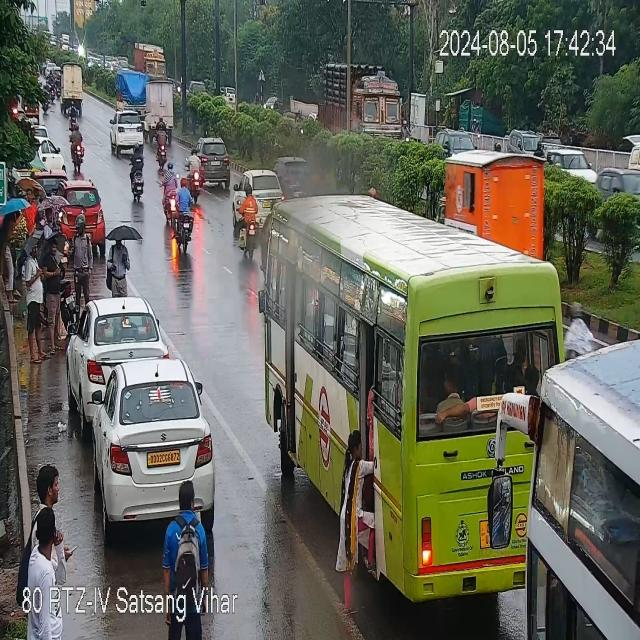2-wheelers: (156, 146, 200, 251), (236, 185, 262, 252), (127, 145, 152, 200), (150, 119, 172, 166), (67, 121, 84, 175), (285, 98, 312, 118)
bus: (262, 200, 576, 580), (494, 309, 640, 636)
car: (80, 361, 216, 524), (72, 298, 164, 394), (60, 182, 106, 236), (191, 139, 236, 185), (108, 112, 148, 154), (601, 153, 639, 194), (241, 172, 287, 204), (34, 136, 66, 176)
pedestrian: (159, 491, 215, 612), (27, 466, 73, 594), (22, 238, 53, 358), (68, 223, 99, 309), (39, 238, 62, 351), (26, 534, 59, 590), (103, 229, 130, 296)
truck: (310, 62, 419, 144), (117, 68, 181, 134), (134, 38, 170, 81), (58, 65, 90, 113)
